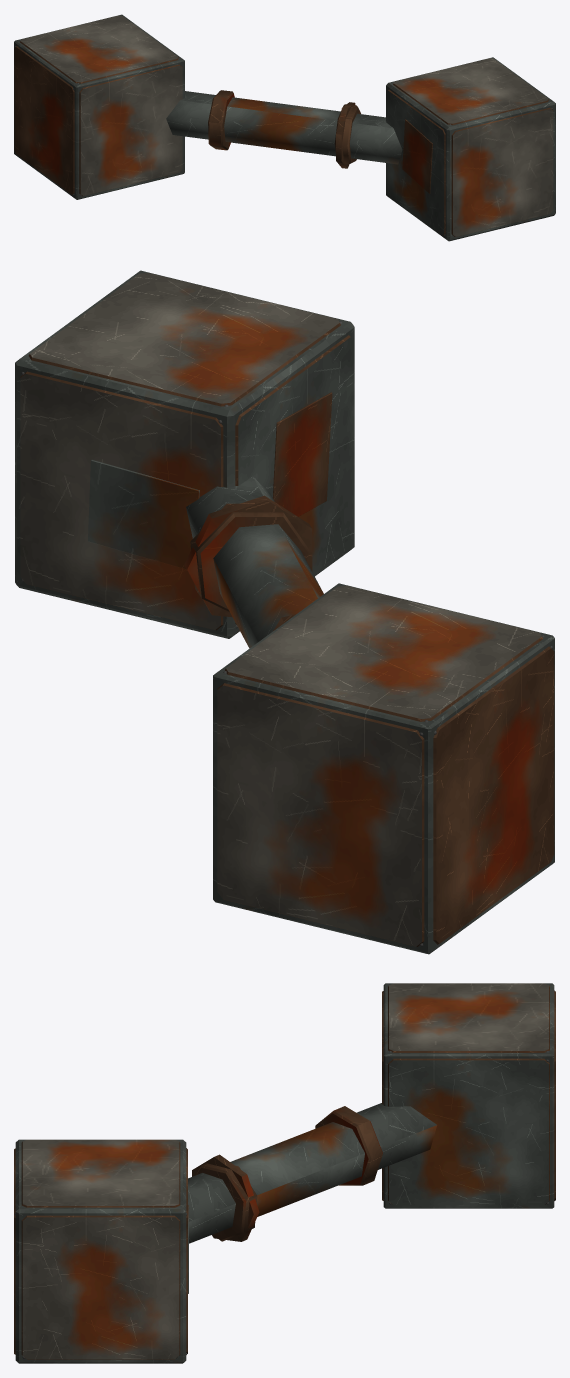
The model's file is R4C_STRUT_DIAG_2D.glb.
3 renders of one model, top to bottom at view 1: azimuth 30°, elevation 25°; view 2: azimuth 150°, elevation 25°; view 3: azimuth 270°, elevation 25°, orthographic. The views are drawn at different scales.
Visible parts, largest first — view 1: R4C_STRUT_DIAG_2D; view 2: R4C_STRUT_DIAG_2D; view 3: R4C_STRUT_DIAG_2D.
Part boxes in pixels (x1,y1,x2,y2): R4C_STRUT_DIAG_2D: [14, 14, 555, 241]; R4C_STRUT_DIAG_2D: [15, 270, 554, 954]; R4C_STRUT_DIAG_2D: [14, 983, 555, 1363].
Size of the model in its own units: 1.62 by 0.52 by 1.62.
Materials: 4 (4 with a texture image).
